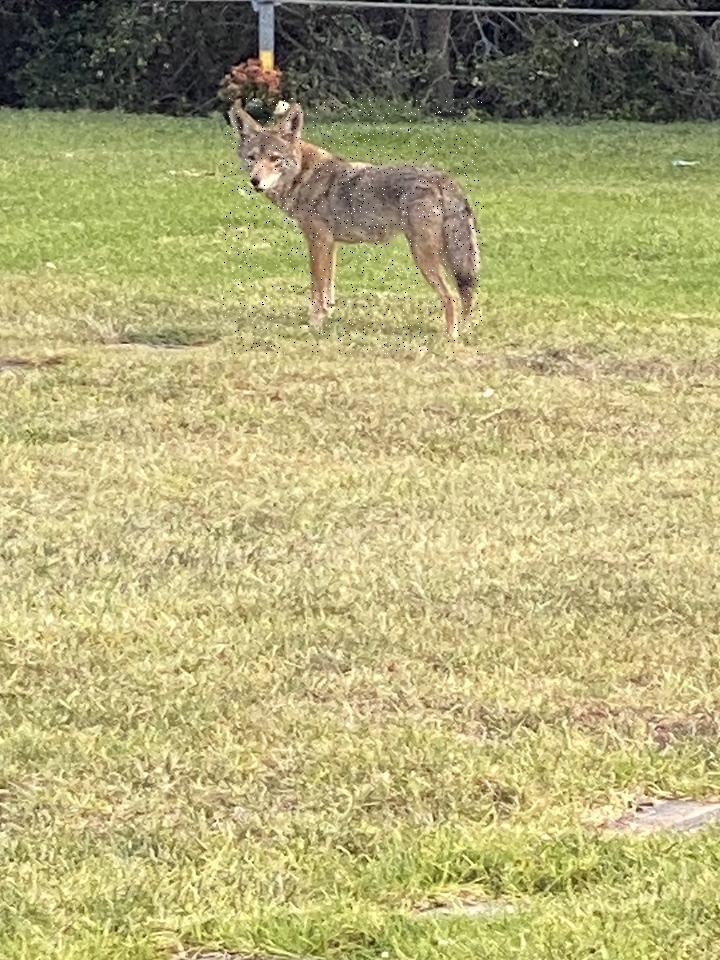Coyote: (224, 98, 485, 354)
